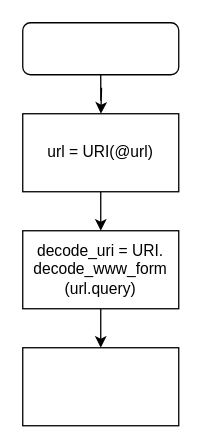
The diagram is 202 pixels wide and 448 high, and some of its shapes have lost their labels. Here are the shapes that lost their labels. From the top down, the centre of each, then its label:
At point (100, 48): "начало".
At point (100, 386): "Hash[decode_uri]".
